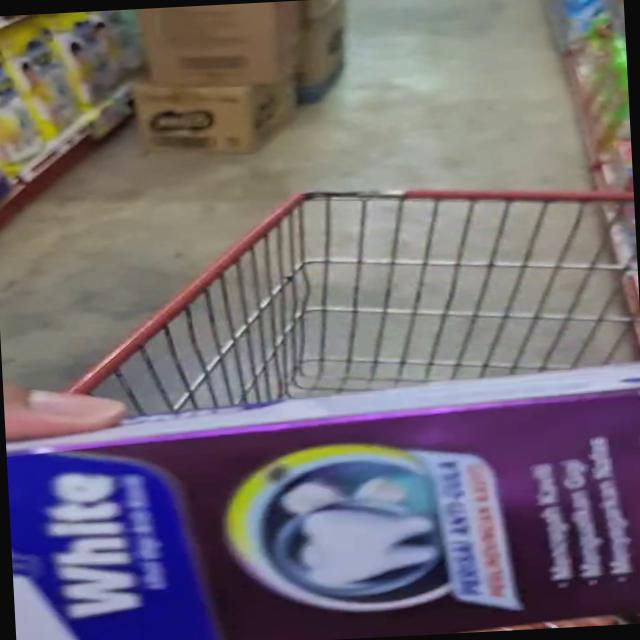Ubat Gigi: (3, 351, 640, 640)
